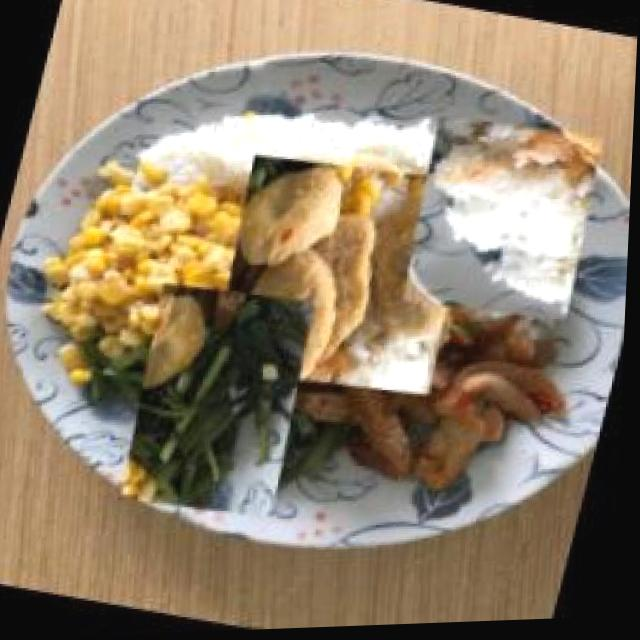chicken_nuggets: (203, 136, 486, 417)
rice: (393, 107, 616, 341)
water_spinach: (102, 283, 343, 523)
